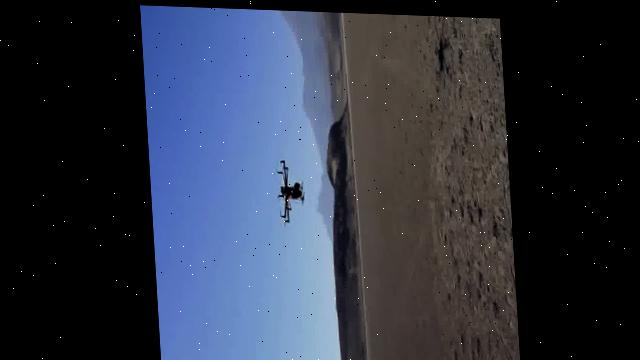drone: (426, 12, 517, 360)
